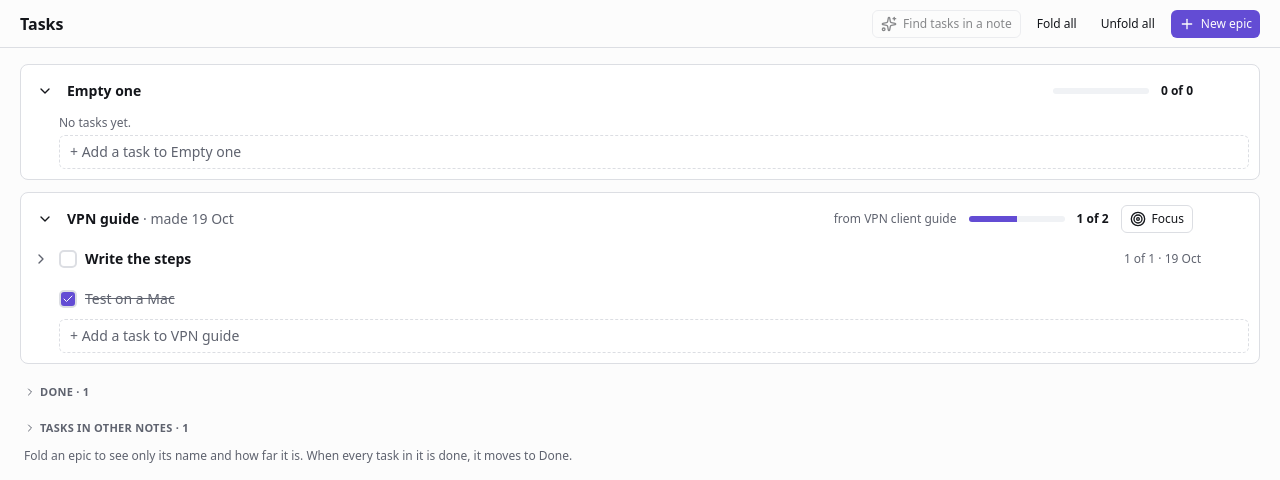
Test: TasksView › folds an epic and remembers it
The width and height of the screenshot is (1280, 480).
Expected: the button "Write the steps" is shown, [85, 249, 191, 269]
Click the button named "Fold VPN guide".
click(45, 219)  # box [35, 209, 55, 229]
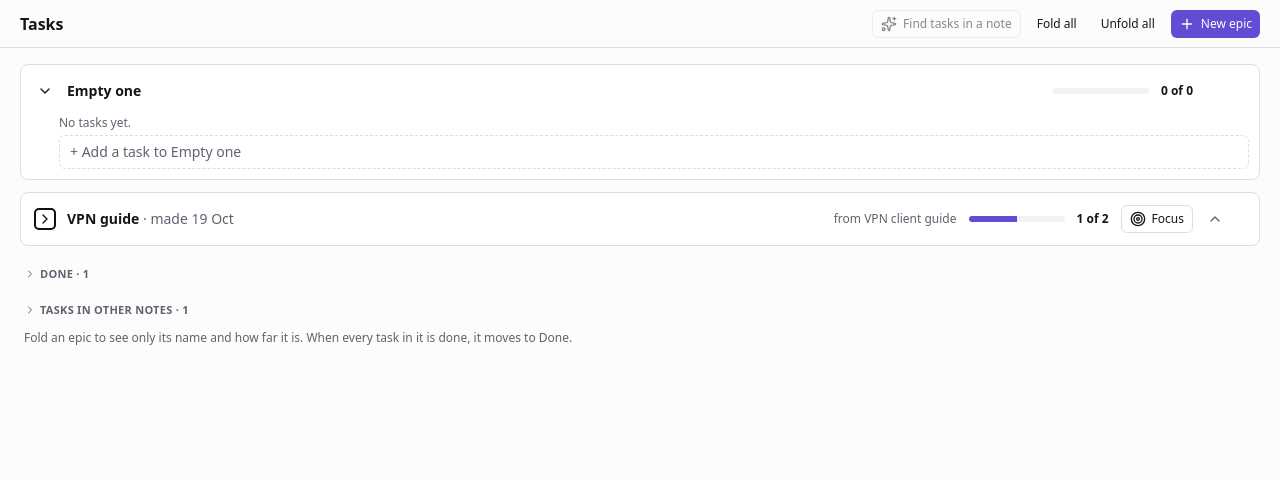
Expected: the button "Write the steps" is gone
Click the button named "Unfold VPN guide".
click(45, 219)  # box [35, 209, 55, 229]
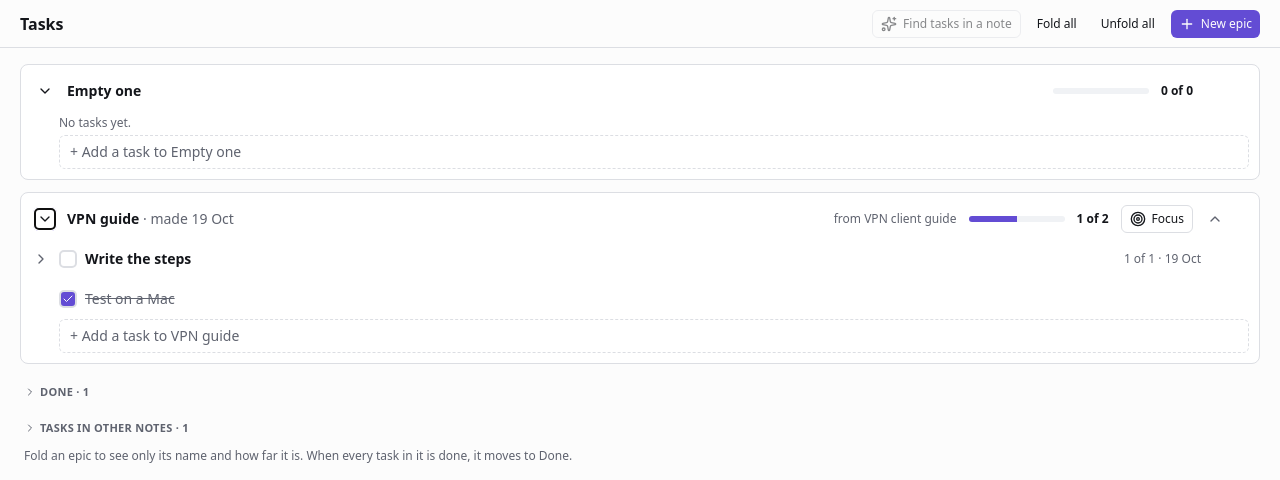
Expected: the button "Write the steps" is shown, [85, 249, 191, 269]
